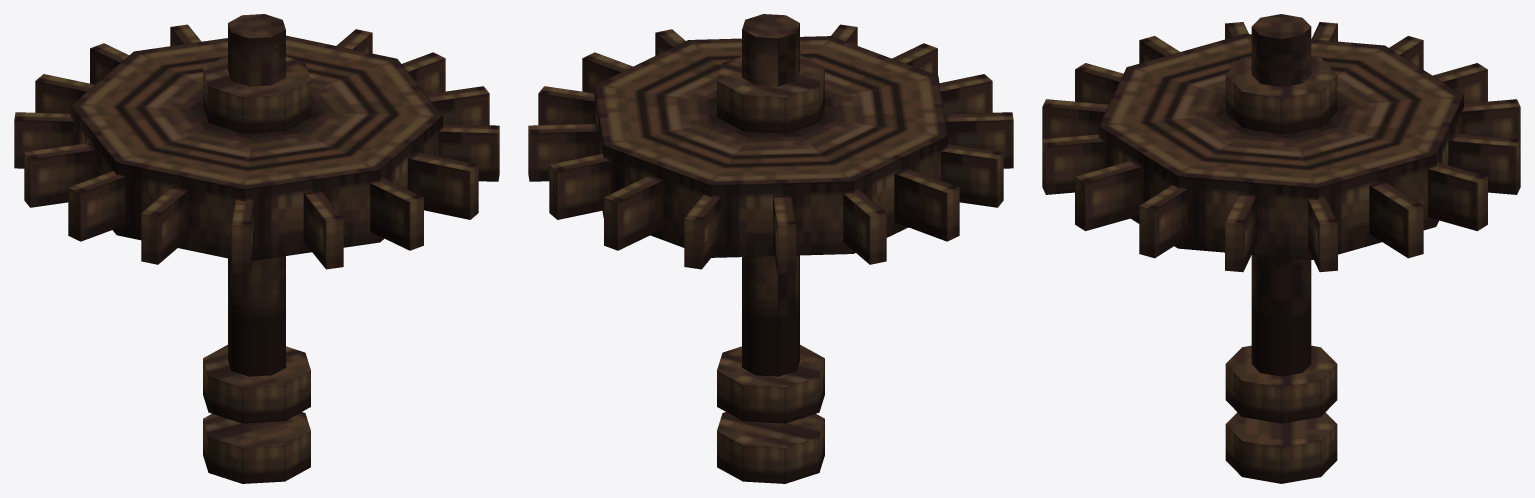
Rendered from EnvBdgMD_Sea_Lighthouse_Gear_B.FBX.
3 renders of one model, left to right at view 1: azimuth 30°, elevation 25°; view 2: azimuth 150°, elevation 25°; view 3: azimuth 270°, elevation 25°, orthographic.
Parts seen in each view (by area): view 1: EnvBdgMD_Sea_Lighthouse_Gear_B; view 2: EnvBdgMD_Sea_Lighthouse_Gear_B; view 3: EnvBdgMD_Sea_Lighthouse_Gear_B.
Boxes of the visible parts, x1,y1,x2,y2 form: EnvBdgMD_Sea_Lighthouse_Gear_B: [14, 14, 499, 483]; EnvBdgMD_Sea_Lighthouse_Gear_B: [528, 14, 1013, 483]; EnvBdgMD_Sea_Lighthouse_Gear_B: [1042, 14, 1520, 483].
Size of the model in its own units: 180 by 180 by 180.
1 material, 1 textured.
